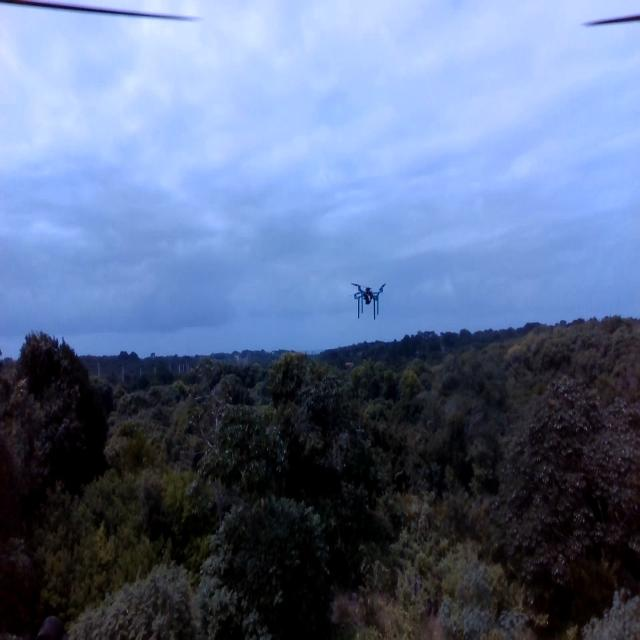-uav-: (346, 275, 389, 327)
